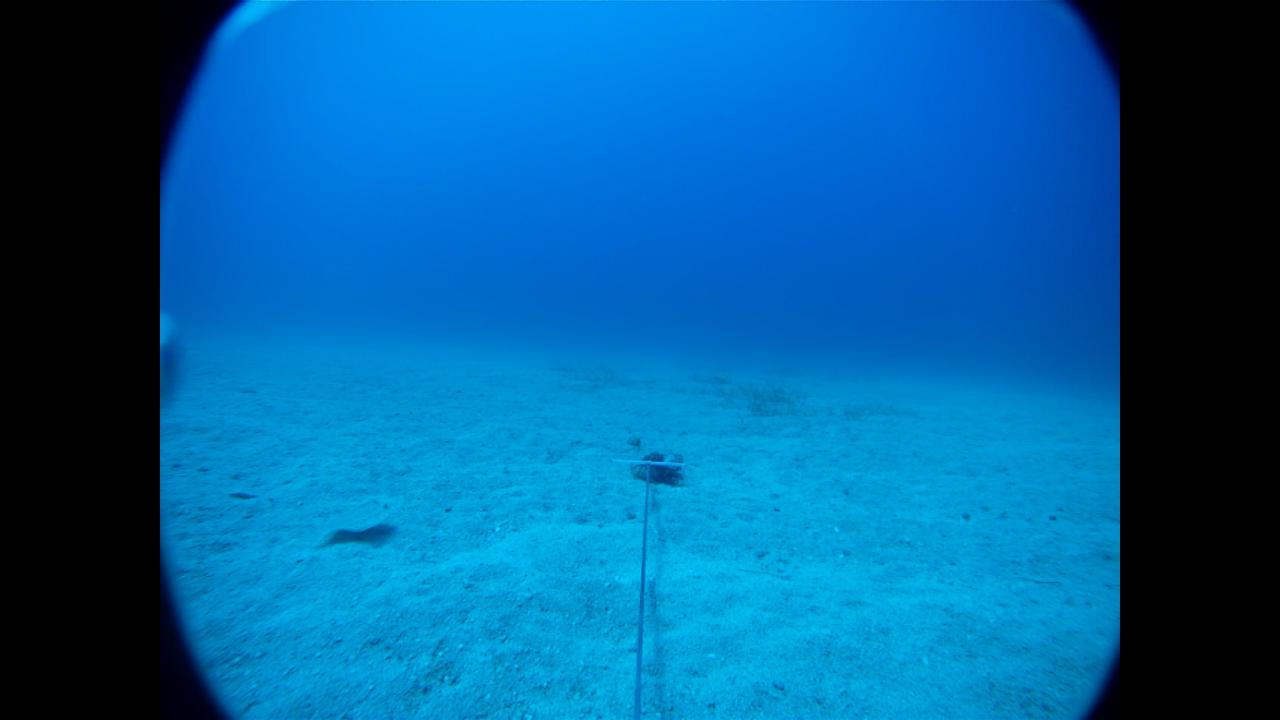bothus: (320, 495, 394, 544)
